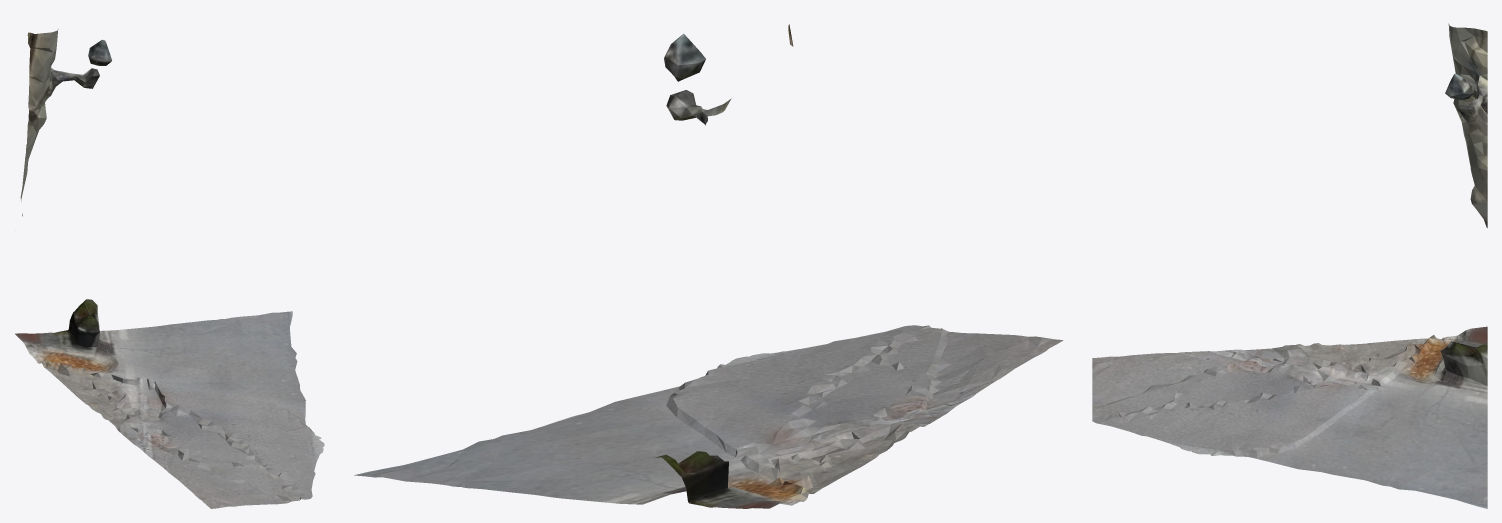
3 views of the same model, side by side, from view 1: azimuth 30°, elevation 25°; view 2: azimuth 150°, elevation 25°; view 3: azimuth 270°, elevation 25° (orthographic). The views are drawn at different scales.
Bounding box in the file's own units: 5.47 × 6.7 × 6.7.
2 materials, 2 textured.
